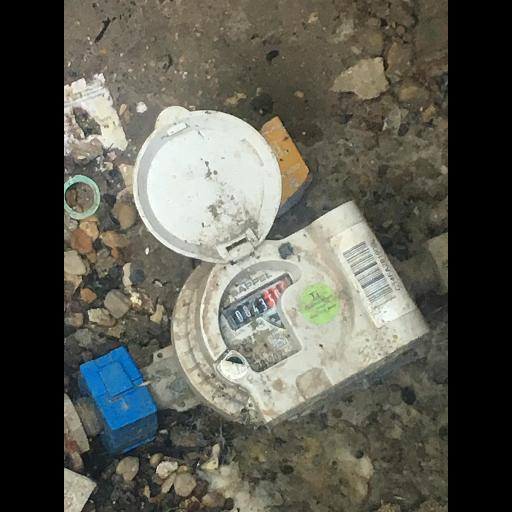0: (231, 308, 247, 326), (272, 285, 285, 301)
2: (278, 279, 291, 293)
3: (256, 294, 271, 312)
4: (248, 300, 262, 317)
5: (262, 289, 278, 309)
8: (239, 302, 255, 321)
border_water_meter_number: (221, 274, 300, 334)
